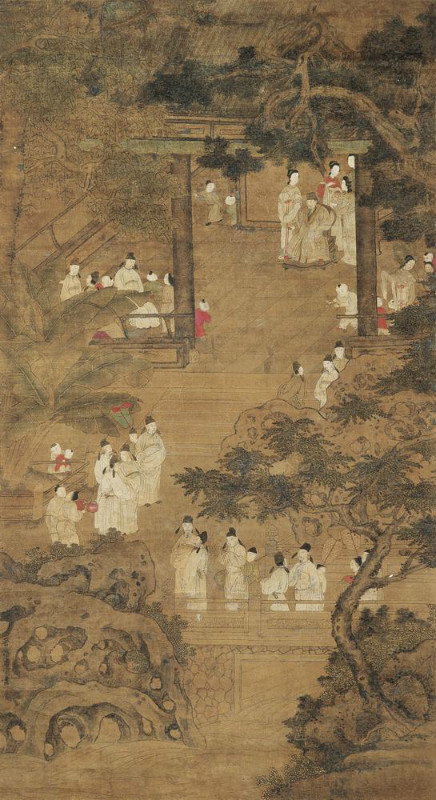bridge: (186, 626, 336, 668)
decoration: (3, 555, 175, 741)
kid: (329, 282, 388, 337), (49, 489, 89, 540), (199, 179, 236, 228), (65, 262, 114, 294), (198, 296, 223, 351), (43, 444, 75, 477), (416, 248, 436, 294), (143, 271, 158, 284)
man: (269, 550, 329, 616), (173, 522, 214, 614), (281, 347, 341, 405), (221, 532, 258, 623), (363, 583, 388, 605), (351, 547, 364, 571)
tree: (11, 8, 420, 127), (206, 455, 432, 534), (27, 139, 179, 227), (333, 616, 425, 742), (364, 113, 436, 240), (360, 358, 435, 455), (362, 511, 434, 569)
woman: (280, 170, 360, 270), (390, 258, 416, 315)
